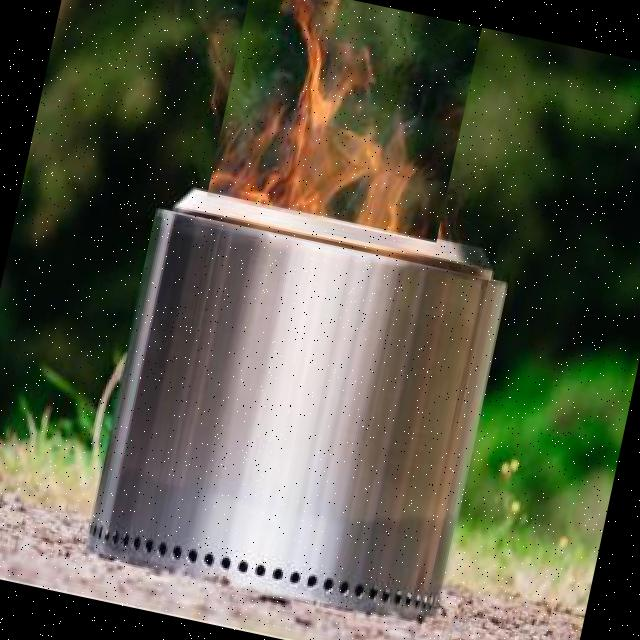fire: (206, 0, 481, 244)
